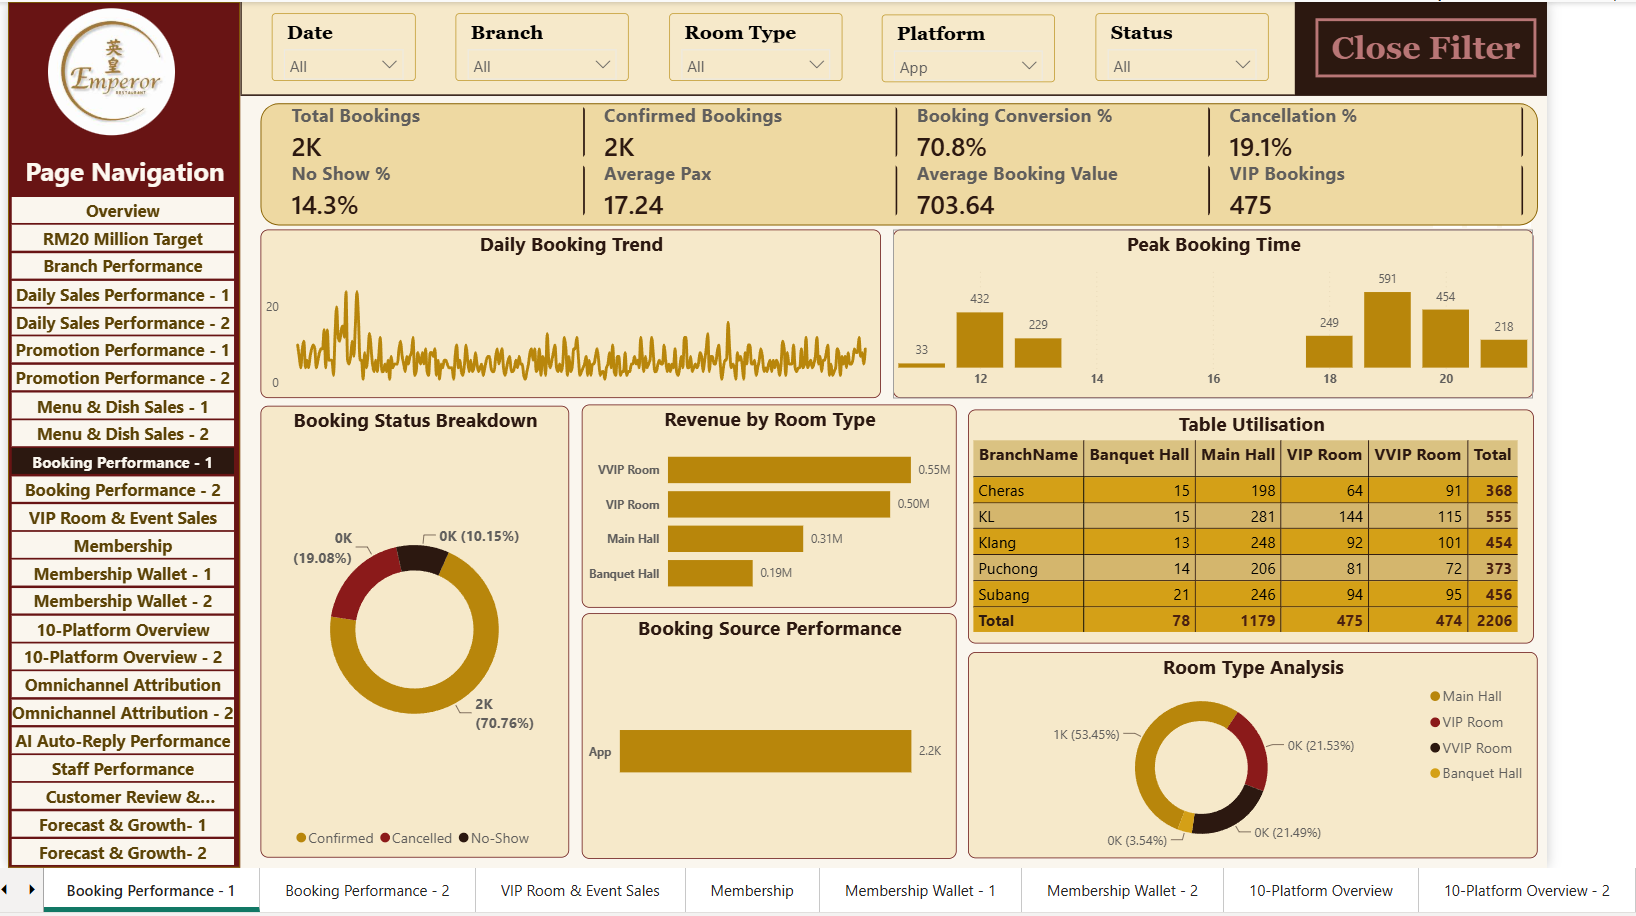

What the dashboard file says about the page in this screenshot:
{"tool":"powerbi","page":{"name":"Booking Performance - 1","canvas":[1600,900],"ordinal":9},"visuals":[{"type":"lineChart","title":"Daily Booking Trend","fields":{"Category":["Dim_Date.Date"],"Y":["__DAX_Measures.Total Bookings"]},"box":[262.4,236.7,644.9,175],"z":0},{"type":"donutChart","title":"Booking Status Breakdown","fields":{"Category":["Fact_Booking.Status"],"Y":["__DAX_Measures.Booking Count"]},"box":[262.4,420.2,320.8,470],"z":1000},{"type":"clusteredBarChart","title":"Booking Source Performance","fields":{"Category":["Dim_Platform.PlatformName"],"Y":["__DAX_Measures.Total Bookings"]},"box":[596.9,634.7,389.4,255.6],"z":2000},{"type":"columnChart","title":"Peak Booking Time","fields":{"Category":["Fact_Booking.VisitHour"],"Y":["__DAX_Measures.Total Bookings"]},"box":[919.4,236.7,665.5,175],"z":3000},{"type":"shape","box":[0,0,241.3,899.7],"z":4000},{"type":"shape","box":[262.4,104.6,1327.6,126.9],"z":5000},{"type":"cardVisual","fields":{"Data":["__DAX_Measures.Total Bookings","__DAX_Measures.Confirmed Bookings","__DAX_Measures.Booking Conversion %","__DAX_Measures.Cancellation %","__DAX_Measures.No Show %","__DAX_Measures.Average Pax","__DAX_Measures.Average Booking Value","__DAX_Measures.VIP Bookings"]},"box":[271,97.8,1317.3,137.2],"z":6000},{"type":"barChart","title":"Revenue by Room Type","fields":{"Category":["Fact_Booking.RoomType"],"Y":["__DAX_Measures.Booking Revenue"]},"box":[596.9,418.5,389.4,211],"z":7000},{"type":"donutChart","title":"Room Type Analysis","fields":{"Category":["Fact_Booking.RoomType"],"Y":["__DAX_Measures.Total Bookings"]},"box":[998.3,675.8,591.8,214.4],"z":8000},{"type":"pivotTable","title":"Table Utilisation","fields":{"Columns":["Dim_Table.TableType"],"Rows":["Dim_Branch.BranchName"],"Values":["__DAX_Measures.Total Bookings"]},"box":[998.3,423.7,588.3,243.6],"z":9000},{"type":"textbox","box":[241.3,0,1359,97.4],"z":10000},{"type":"shape","box":[242.7,0,1094.5,95.9],"z":11000},{"type":"actionButton","title":"Close Filter","box":[1359.3,16.3,229.6,61.5],"z":12000},{"type":"slicer","fields":{"Values":["Dim_Date.Date"]},"box":[274.4,12.3,149.2,70.3],"z":14000},{"type":"slicer","fields":{"Values":["Dim_Branch.BranchName"]},"box":[465.3,12.1,180,70.3],"z":15000},{"type":"slicer","fields":{"Values":["Fact_Booking.RoomType"]},"box":[687,12.3,180,70],"z":16000},{"type":"slicer","fields":{"Values":["Dim_Platform.PlatformName"]},"box":[908.7,12.4,180,70],"z":17000},{"type":"slicer","fields":{"Values":["Dim_Customer.Status"]},"box":[1130.4,11.9,180.1,70.3],"z":18000},{"type":"image","box":[41.9,6.2,131.9,131.9],"z":21000},{"type":"pageNavigator","box":[4.4,202.3,231.1,697.7],"z":21001},{"type":"textbox","box":[0,152.6,242.7,46.5],"z":21002}]}

Visuals, with their boxes on the page's 1600x900 design canvas (x1, y1, x2, y2). These are canvas units, not pixel positions in the 1636x916 screenshot, which may show the page scaled, cropped or inside an application window:
"Daily Booking Trend" lineChart: 262, 237, 907, 412
"Booking Status Breakdown" donutChart: 262, 420, 583, 890
"Booking Source Performance" clusteredBarChart: 597, 635, 986, 890
"Peak Booking Time" columnChart: 919, 237, 1585, 412
shape: 0, 0, 241, 900
shape: 262, 105, 1590, 232
cardVisual - __DAX_Measures.Total Bookings x __DAX_Measures.Confirmed Bookings: 271, 98, 1588, 235
"Revenue by Room Type" barChart: 597, 418, 986, 630
"Room Type Analysis" donutChart: 998, 676, 1590, 890
"Table Utilisation" pivotTable: 998, 424, 1587, 667
textbox: 241, 0, 1600, 97
shape: 243, 0, 1337, 96
"Close Filter" actionButton: 1359, 16, 1589, 78
slicer - Dim_Date.Date: 274, 12, 424, 83
slicer - Dim_Branch.BranchName: 465, 12, 645, 82
slicer - Fact_Booking.RoomType: 687, 12, 867, 82
slicer - Dim_Platform.PlatformName: 909, 12, 1089, 82
slicer - Dim_Customer.Status: 1130, 12, 1310, 82
image: 42, 6, 174, 138
pageNavigator: 4, 202, 236, 900
textbox: 0, 153, 243, 199
